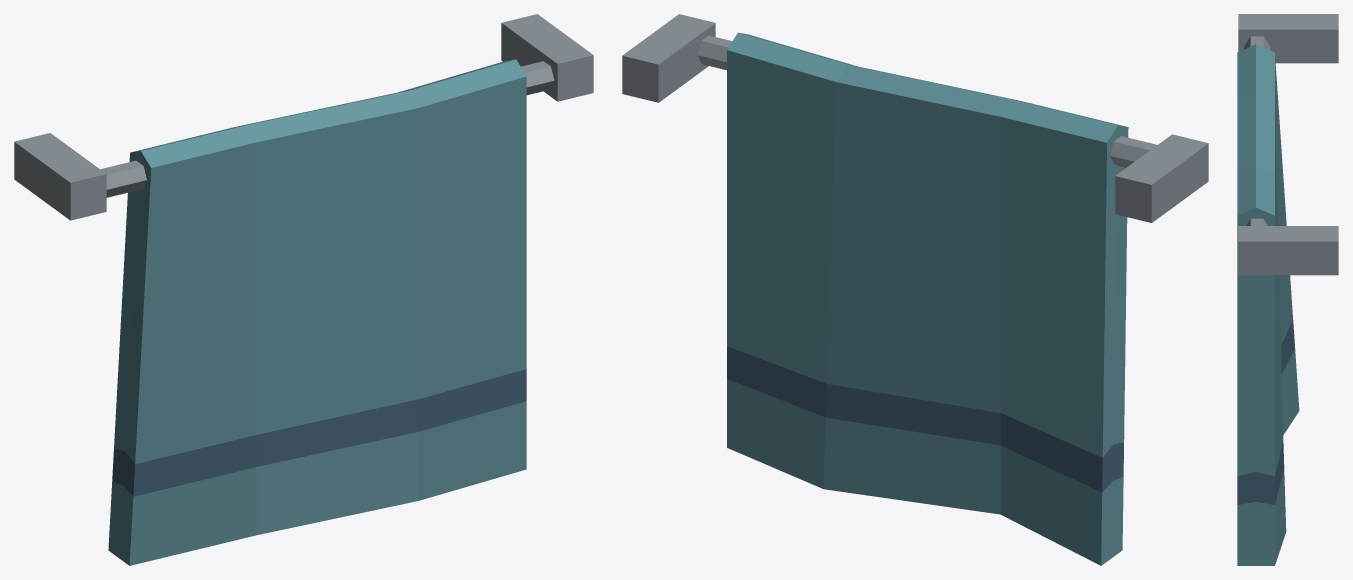
The model's file is SM_Prop_TowelRack_01.fbx.
The picture shows the model from 3 angles, left to right: view 1: azimuth 30°, elevation 25°; view 2: azimuth 150°, elevation 25°; view 3: azimuth 270°, elevation 25°; orthographic projection. The views are drawn at different scales.
Visible parts, largest first — view 1: SM_Prop_TowelRack_01; view 2: SM_Prop_TowelRack_01; view 3: SM_Prop_TowelRack_01.
Part boxes in pixels (x1,y1,x2,y2): SM_Prop_TowelRack_01: (14,14,593,565); SM_Prop_TowelRack_01: (622,14,1208,565); SM_Prop_TowelRack_01: (1237,14,1338,565).
Size of the model in its own units: 78.17 by 59.3 by 14.75.
